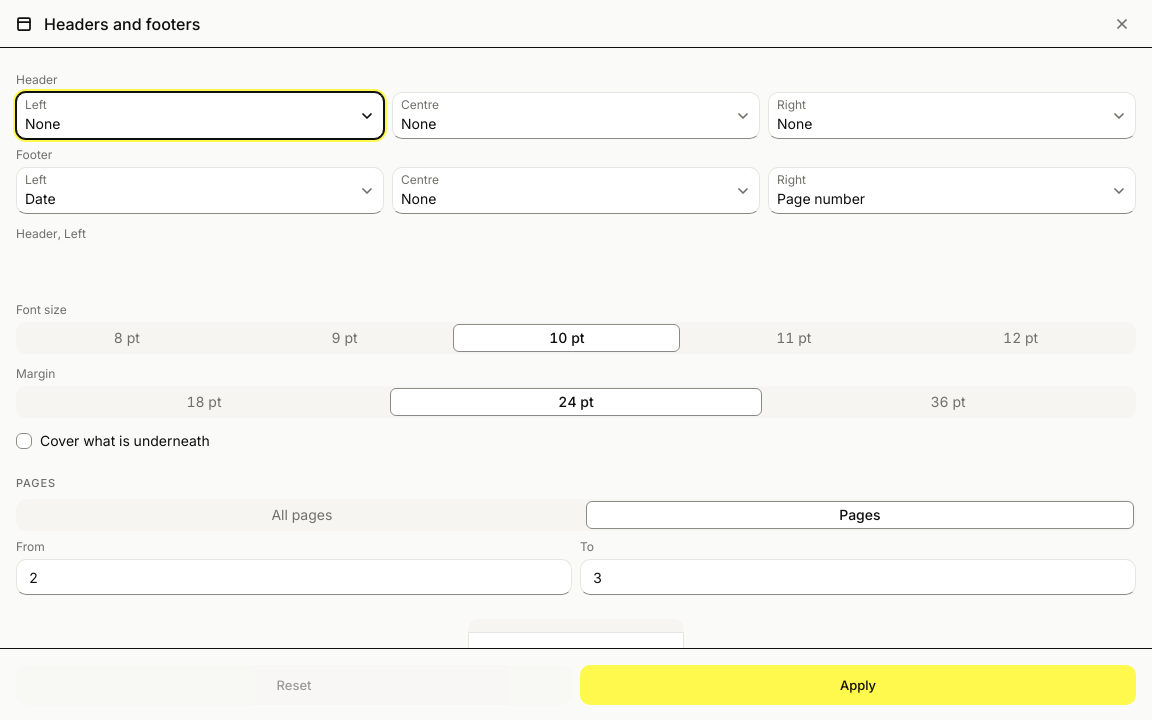
the inspector form › disables Apply with a danger caption for an invalid range
This screenshot has width=1152, height=720.
Check: the field labelled "To" holds "3", box [580,559,1136,595]
Replace the text in the field labelled "From" with "9" at (294, 577), box [16,559,572,595]
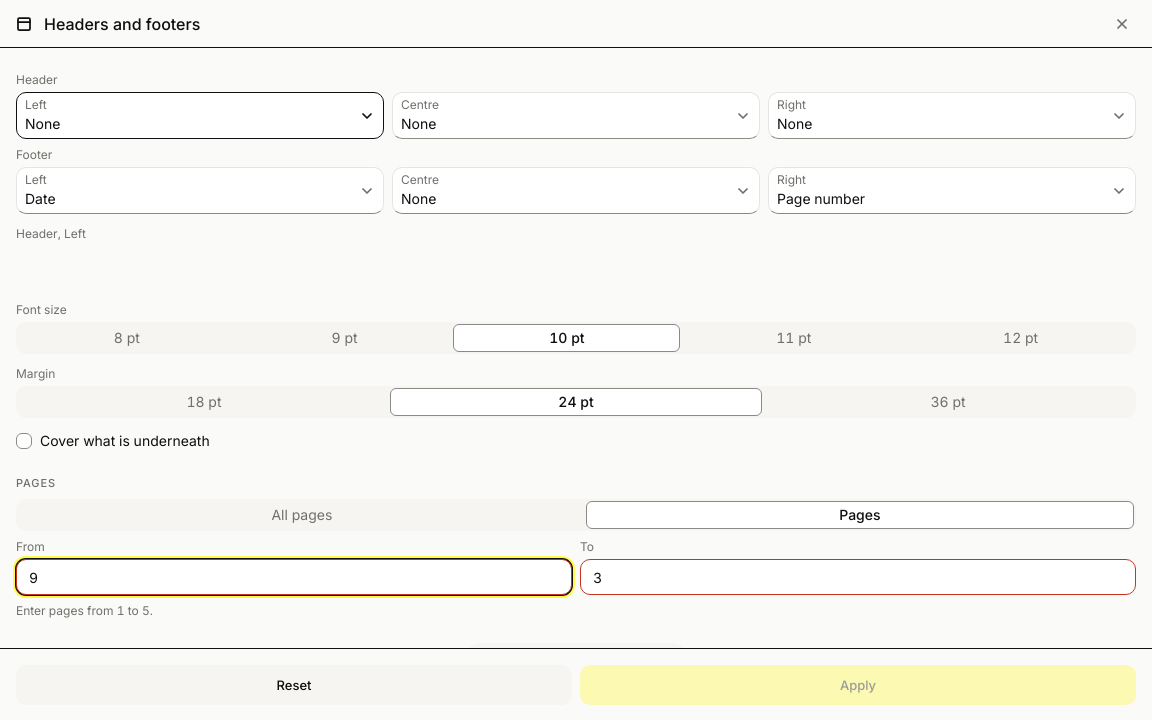
Check: the message reads "Enter pages from 1 to 5.", box [16,603,153,618]
